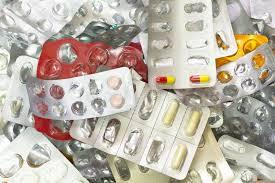pill_Strip: (70, 80, 209, 178), (175, 44, 274, 105), (147, 0, 215, 88), (27, 67, 134, 119), (0, 128, 87, 182), (37, 38, 146, 80), (120, 81, 190, 135), (0, 0, 84, 42), (214, 96, 274, 151), (217, 44, 274, 101), (62, 0, 142, 36), (185, 125, 233, 182), (155, 93, 207, 143), (6, 0, 84, 33), (218, 135, 274, 180), (132, 91, 189, 135), (0, 56, 36, 125), (228, 44, 274, 97), (2, 56, 37, 125), (76, 20, 145, 54), (116, 131, 174, 170), (1, 1, 51, 40), (4, 0, 59, 35), (224, 96, 274, 131), (0, 73, 33, 125), (216, 34, 267, 67), (77, 21, 140, 47), (108, 156, 169, 182), (0, 9, 47, 42), (116, 121, 151, 161), (162, 138, 196, 179), (72, 147, 114, 180), (94, 115, 129, 153), (213, 0, 236, 57), (141, 130, 174, 168), (132, 90, 166, 126), (49, 138, 91, 165), (7, 43, 41, 76), (70, 116, 110, 144), (177, 108, 209, 143), (154, 101, 187, 134), (95, 119, 126, 151), (227, 0, 256, 33), (33, 115, 71, 140), (133, 1, 148, 60), (0, 116, 25, 151), (112, 0, 145, 25), (1, 23, 35, 47), (70, 118, 102, 143), (174, 88, 218, 105), (149, 131, 173, 161), (71, 147, 105, 168), (34, 120, 71, 139), (250, 0, 274, 27), (7, 44, 26, 76), (138, 90, 158, 120), (123, 125, 143, 155), (251, 83, 274, 108), (83, 21, 116, 38), (0, 29, 26, 50), (40, 161, 67, 181), (253, 19, 273, 46), (128, 36, 146, 65), (1, 154, 23, 177), (129, 6, 147, 34), (183, 109, 201, 136), (0, 75, 10, 123), (0, 29, 24, 49), (230, 165, 257, 182), (170, 144, 187, 169), (163, 99, 178, 126), (44, 31, 74, 43), (114, 158, 130, 180), (208, 106, 223, 127), (133, 79, 145, 104), (223, 140, 246, 153), (206, 161, 221, 180), (138, 32, 147, 62), (256, 153, 274, 168), (184, 1, 206, 13), (0, 47, 9, 74), (24, 43, 41, 57), (0, 129, 10, 151), (0, 89, 7, 119), (107, 76, 122, 90), (133, 80, 144, 99), (189, 74, 210, 83), (218, 71, 232, 82), (0, 74, 10, 89), (240, 1, 250, 16), (156, 58, 173, 66), (188, 57, 205, 63), (131, 70, 141, 79), (138, 165, 149, 172), (0, 0, 9, 8), (142, 0, 148, 5)
